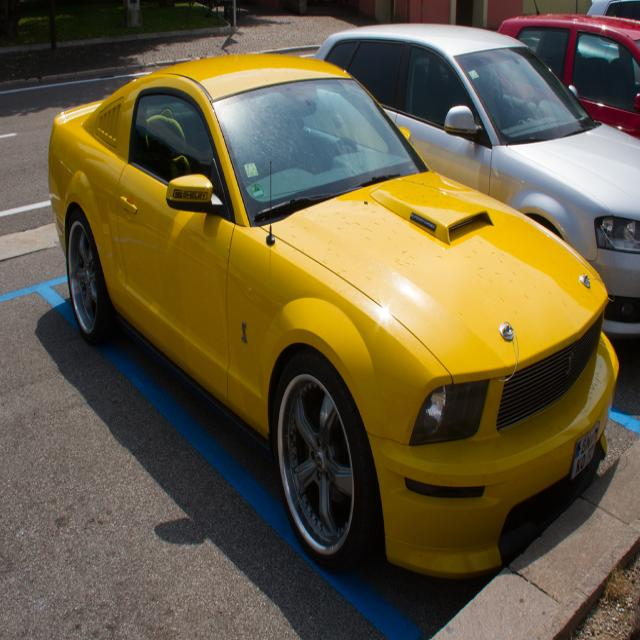Passenger Car: (49, 55, 619, 582)
